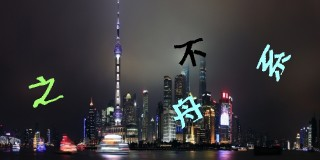不: (173, 37, 206, 67)
之: (28, 76, 64, 108)
系: (255, 43, 292, 81)
舟: (171, 95, 203, 129)
